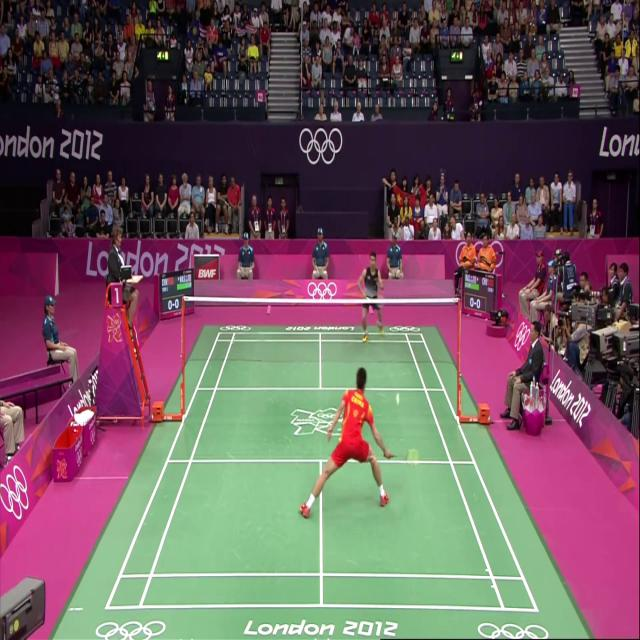Net: (180, 294, 461, 369)
Player1: (304, 329, 394, 522)
Player2: (354, 234, 389, 360)
Shuttlecock: (392, 389, 405, 409)
